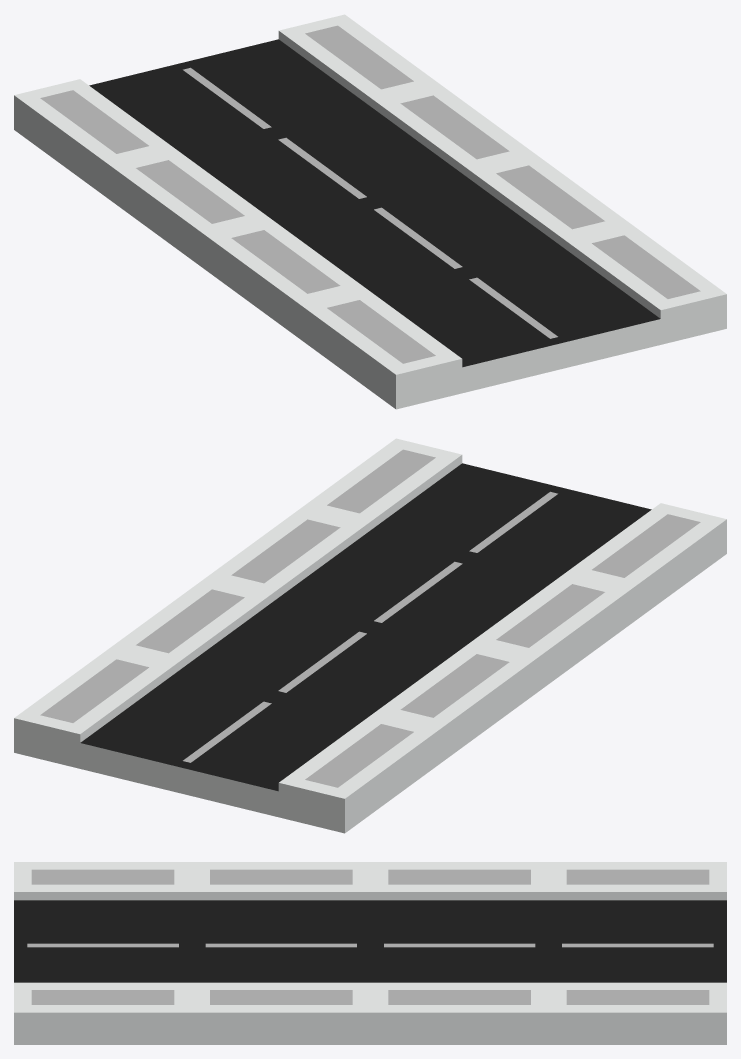
The model's file is duong thang.fbx.
3 renders of one model, top to bottom at view 1: azimuth 30°, elevation 25°; view 2: azimuth 150°, elevation 25°; view 3: azimuth 270°, elevation 25°, orthographic. The views are drawn at different scales.
Parts seen in each view (by area): view 1: duong_thang; view 2: duong_thang; view 3: duong_thang.
Boxes of the visible parts, <box> form: duong_thang: <box>14,14,726,409</box>; duong_thang: <box>14,438,726,833</box>; duong_thang: <box>14,862,726,1044</box>.
Size of the model in its own units: 20 by 2 by 40.
1 material, 1 textured.
